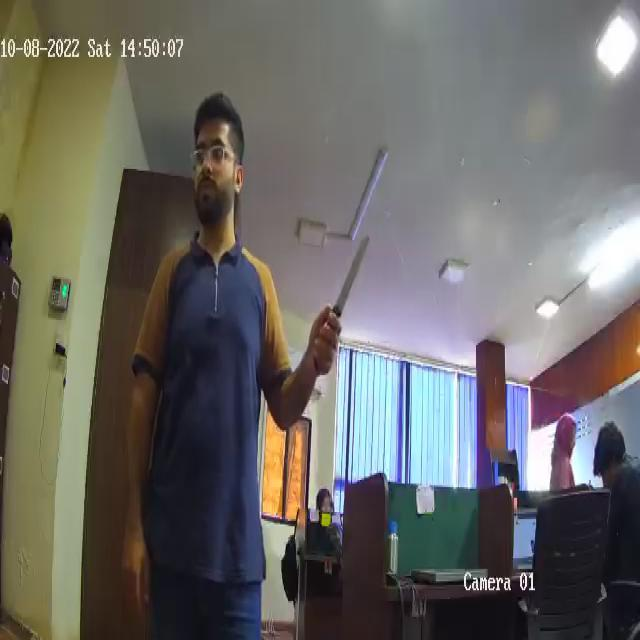Knife: (316, 234, 376, 370)
